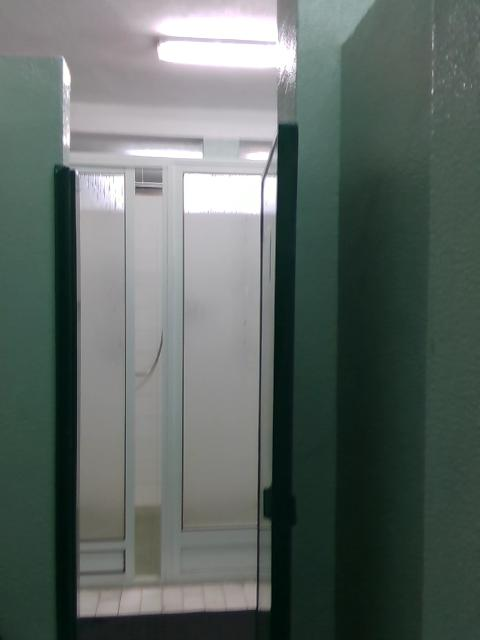open_door: (54, 166, 293, 633)
